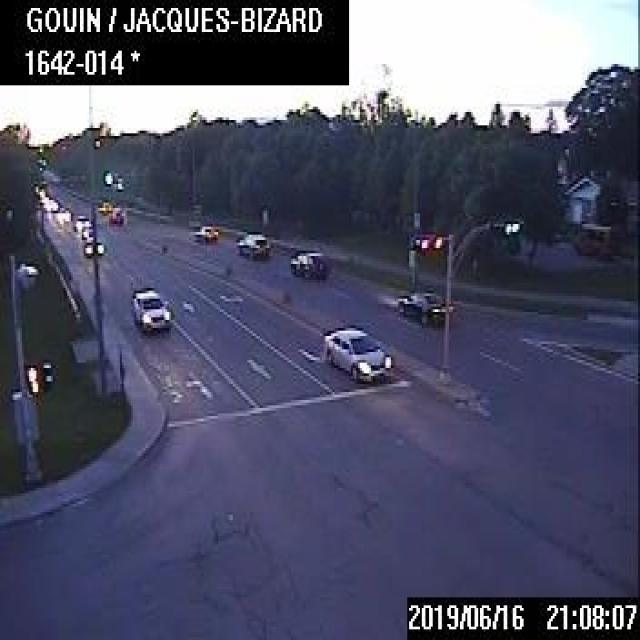bus: (572, 221, 611, 255)
vehicle: (322, 327, 392, 384), (394, 289, 454, 323), (131, 287, 170, 331), (288, 250, 327, 277), (235, 232, 269, 256), (189, 223, 216, 242), (82, 239, 102, 255), (73, 213, 89, 232), (108, 206, 124, 223), (96, 199, 111, 213), (79, 222, 92, 238)
